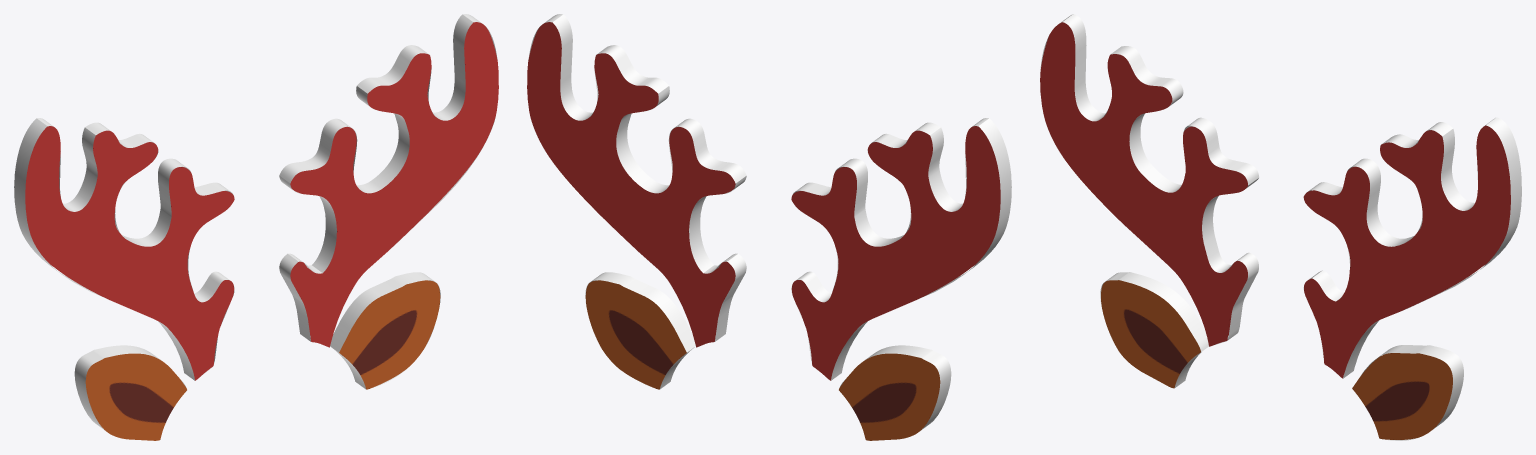
Rendered from horns.obj.
3 renders of one model, left to right at view 1: azimuth 30°, elevation 25°; view 2: azimuth 150°, elevation 25°; view 3: azimuth 330°, elevation 25°, orthographic.
Parts seen in each view (by area): view 1: Vector Smart Object; view 2: Vector Smart Object; view 3: Vector Smart Object.
Part boxes in pixels (x1,y1,x2,y2): Vector Smart Object: (14,14,498,440); Vector Smart Object: (527,14,1011,440); Vector Smart Object: (1040,14,1521,440).
Size of the model in its own units: 8.64 by 5.95 by 0.35.
3 materials, 3 textured.
